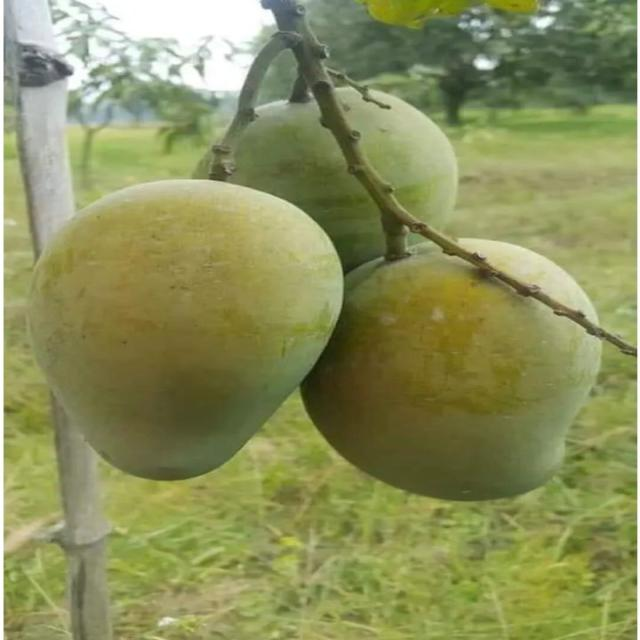mango: (29, 180, 343, 479), (303, 245, 600, 500), (231, 101, 384, 271)
